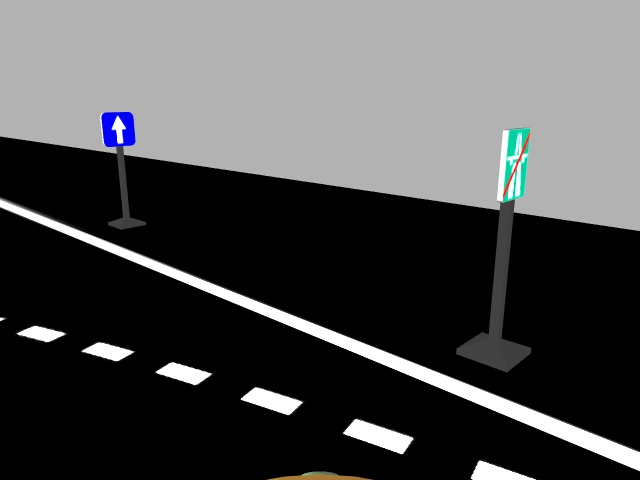HighwayExit: (493, 127, 531, 203)
OneWay: (95, 108, 136, 147)
